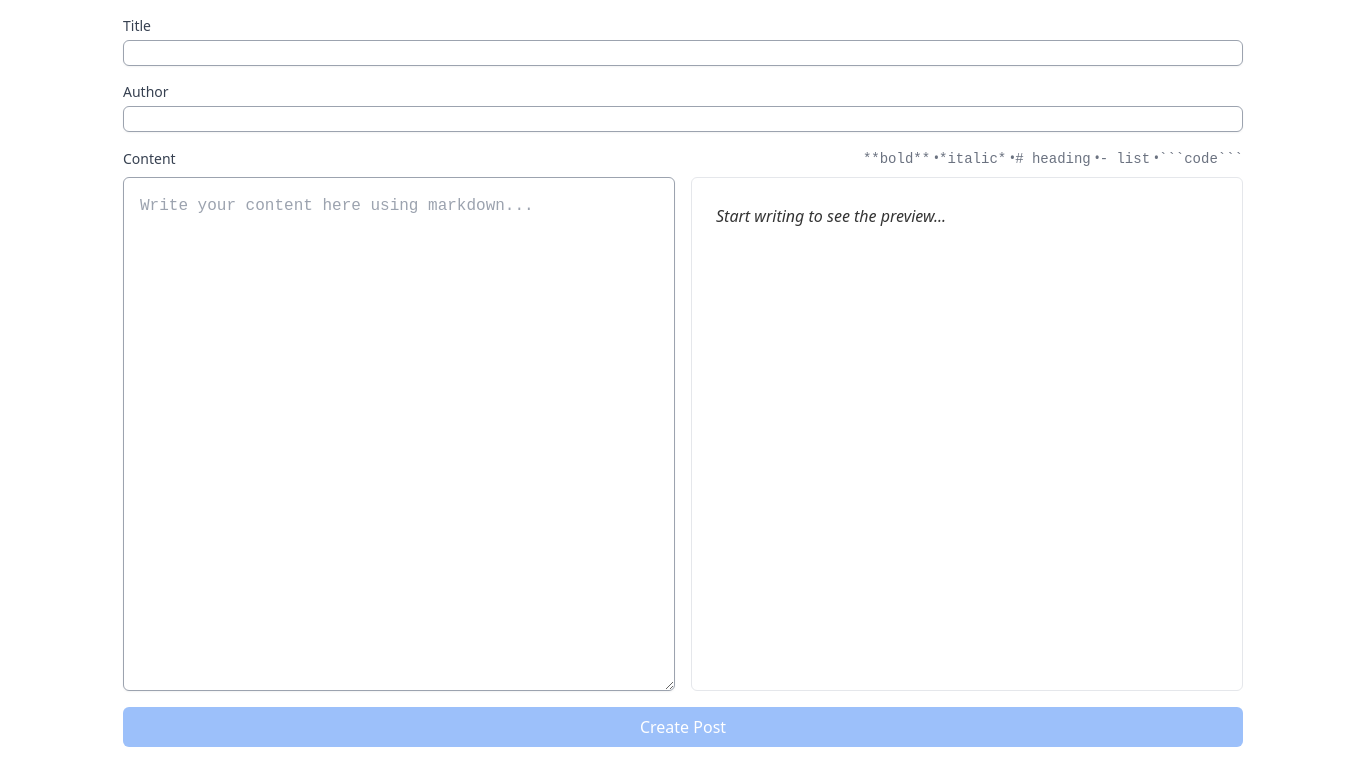
Test case: PostForm › shows confirmation modal on submit
Step 1. Type "T" into the field labelled "Title" → point(683, 53), box [123, 40, 1243, 66]
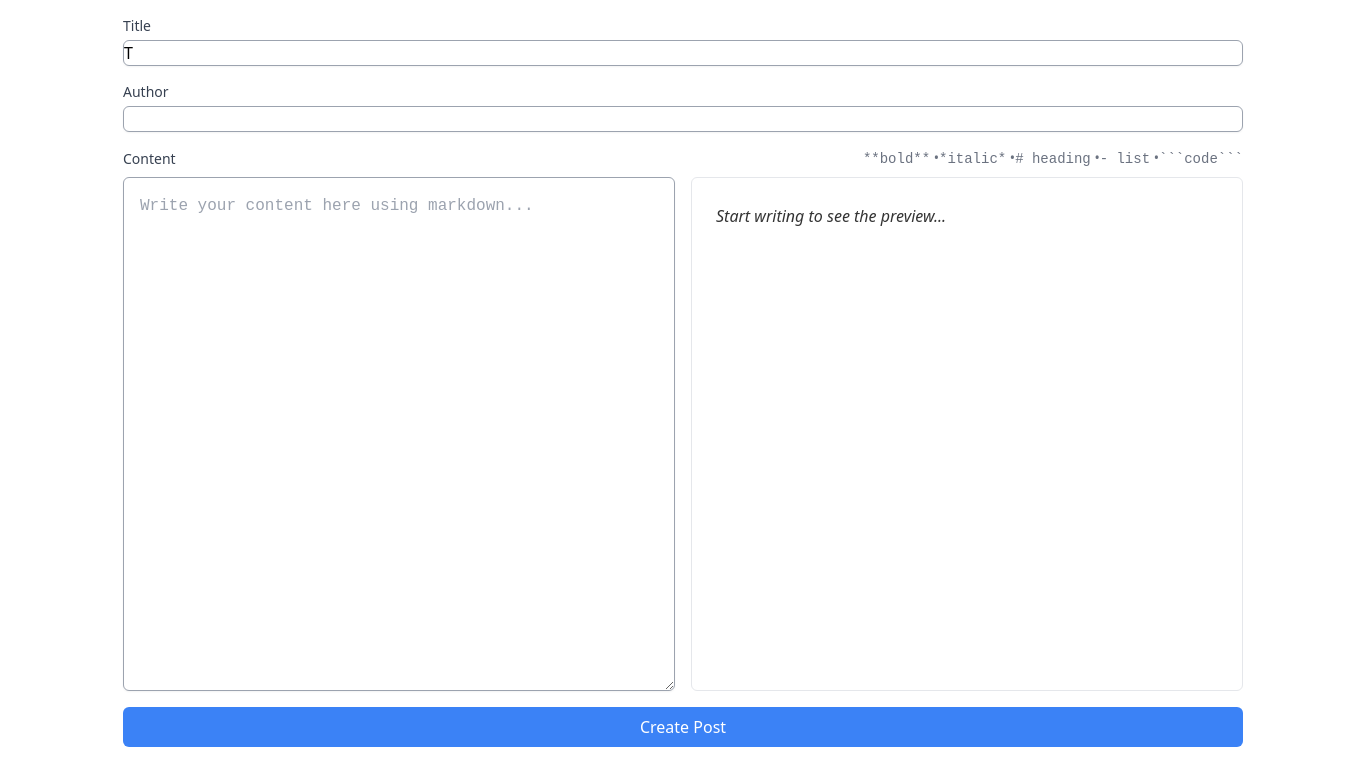
Step 2. Type "A" into the field labelled "Author" → point(683, 119), box [123, 106, 1243, 132]
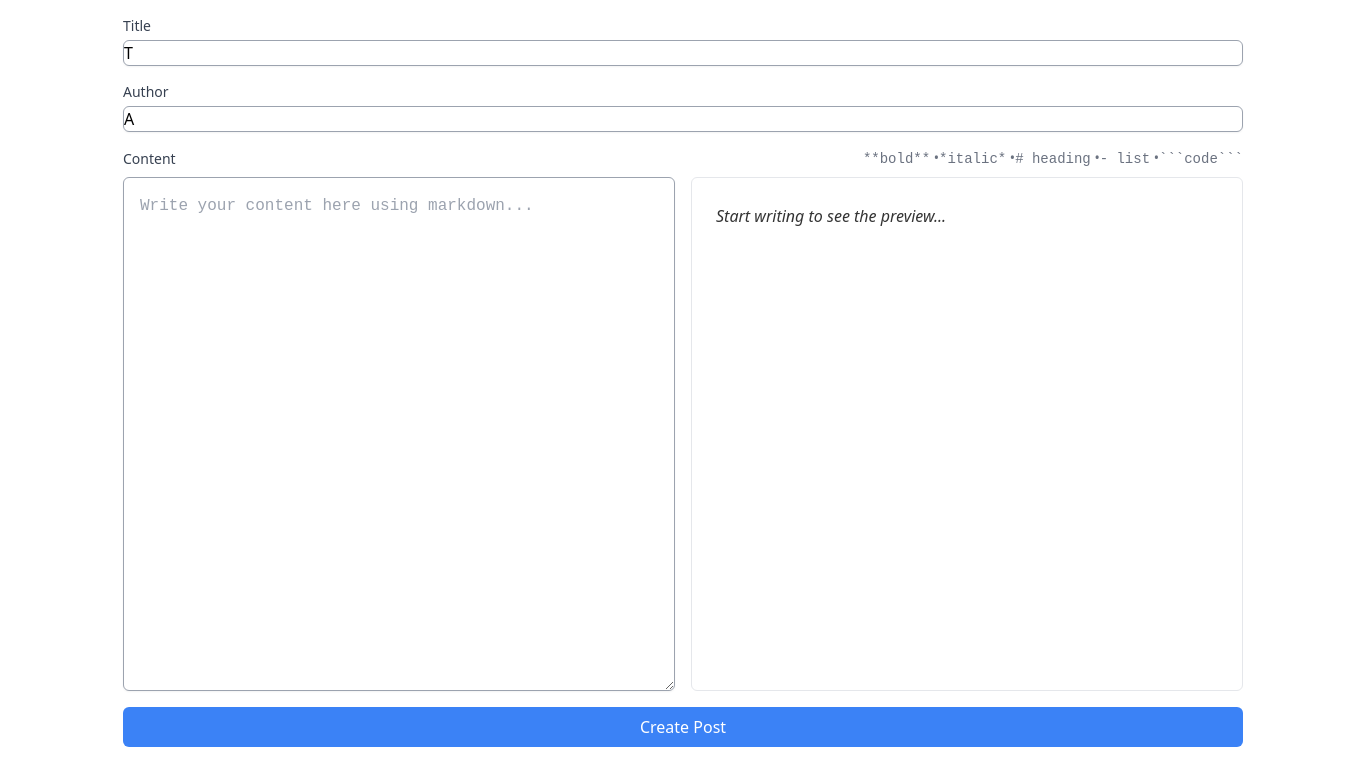
Step 3. Type "C" into the text box labelled "Content" → point(399, 434), box [123, 177, 675, 691]
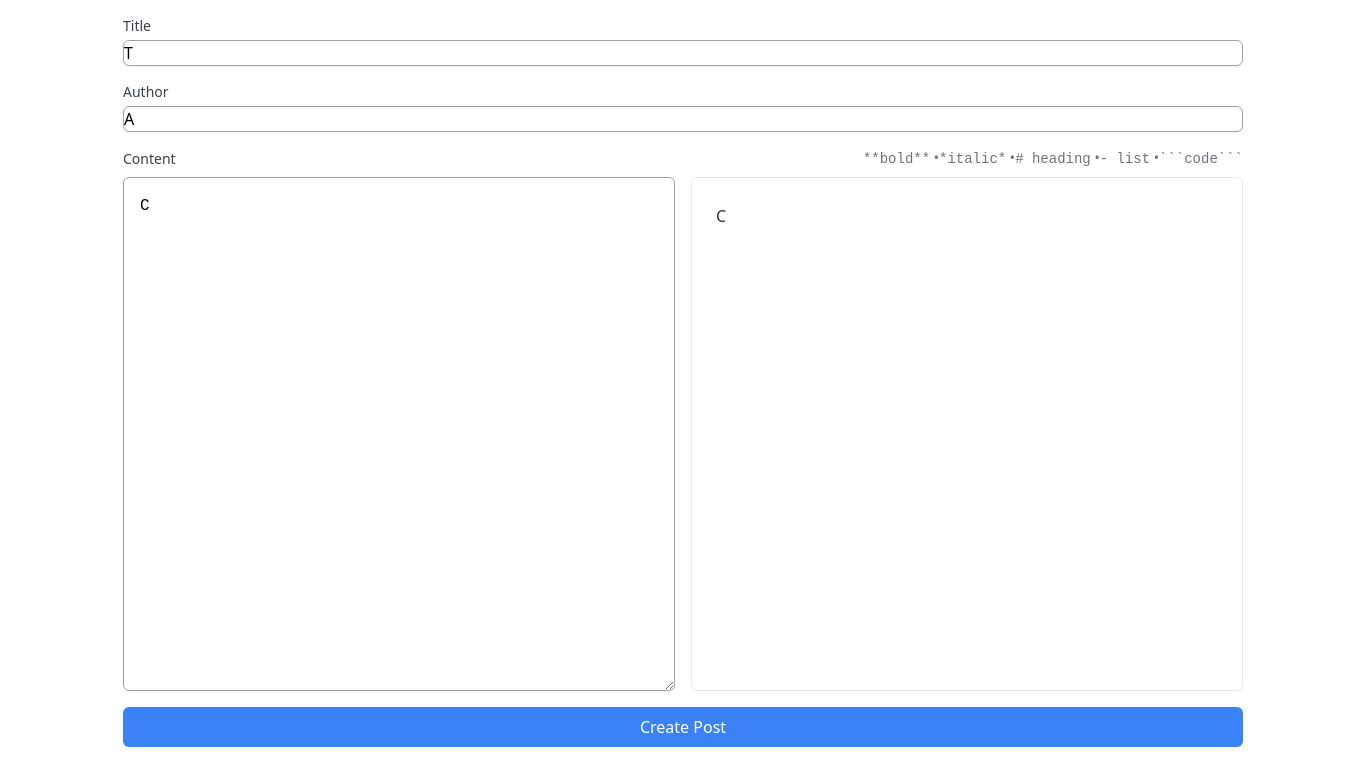
Step 4. Click the button "Create Post" → point(683, 727), box [123, 707, 1243, 747]
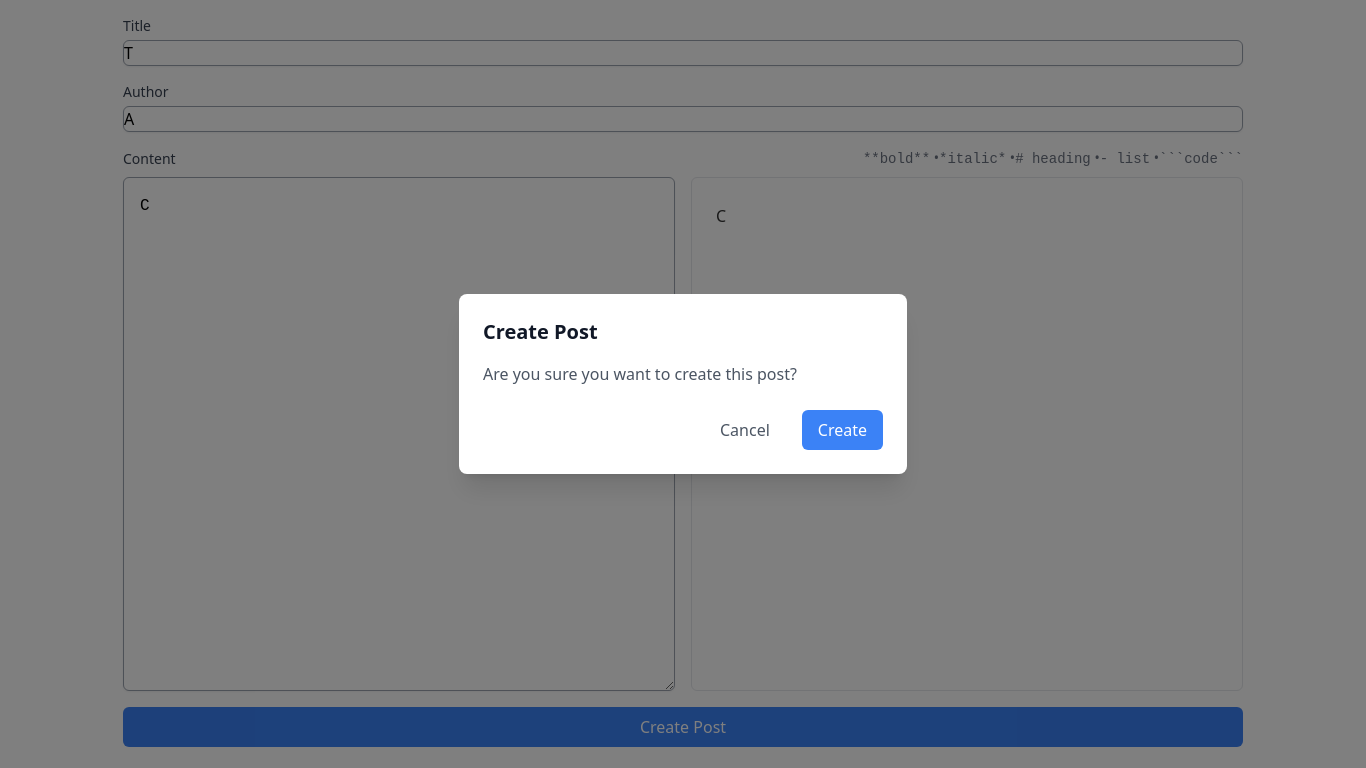
Check: the text "Are you sure you want to create this post?" is shown, box [483, 363, 797, 385]
